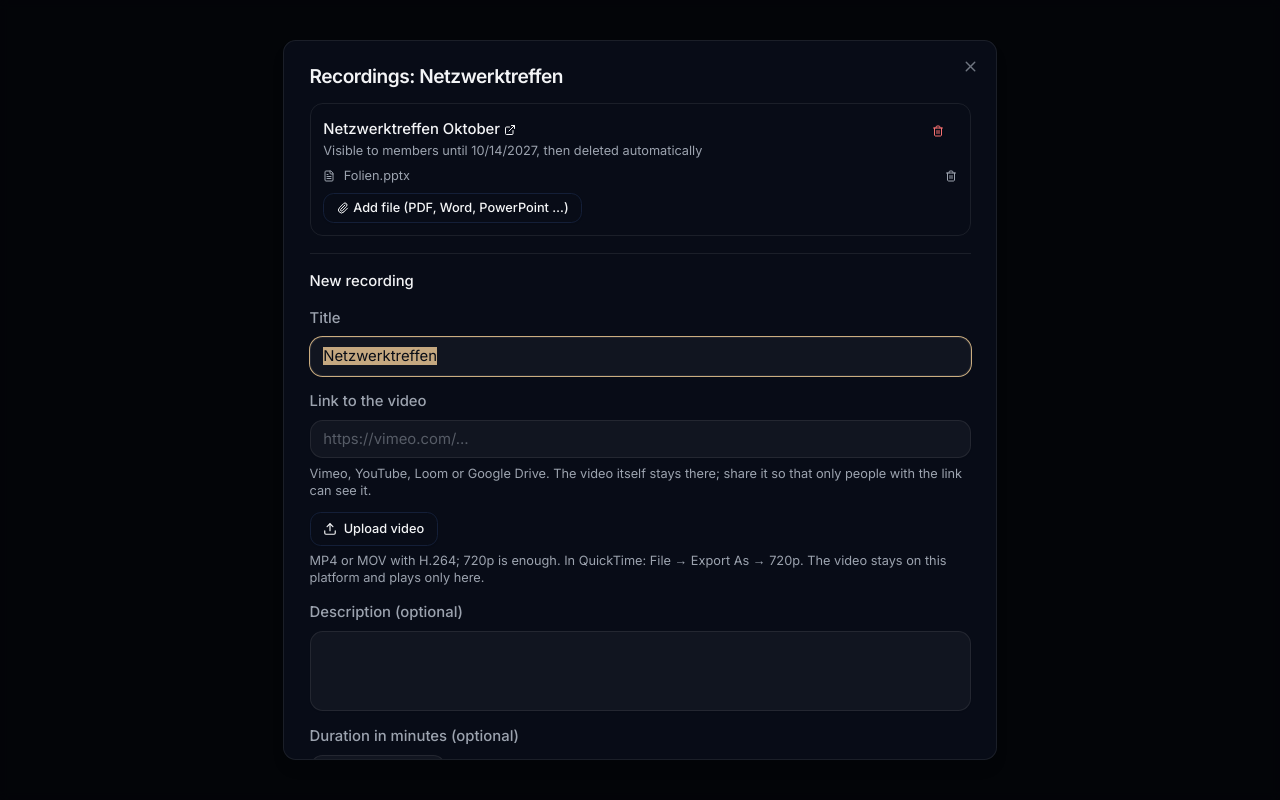
it: RecordingsAdminDialog › needs a web link before it can add
Expected: the link "Netzwerktreffen Oktober" is shown, [323,119,516,141]
Type "kein link" into the field labelled "Link to the video" at (640, 439), box [310,420,970,458]
(page scrolled)
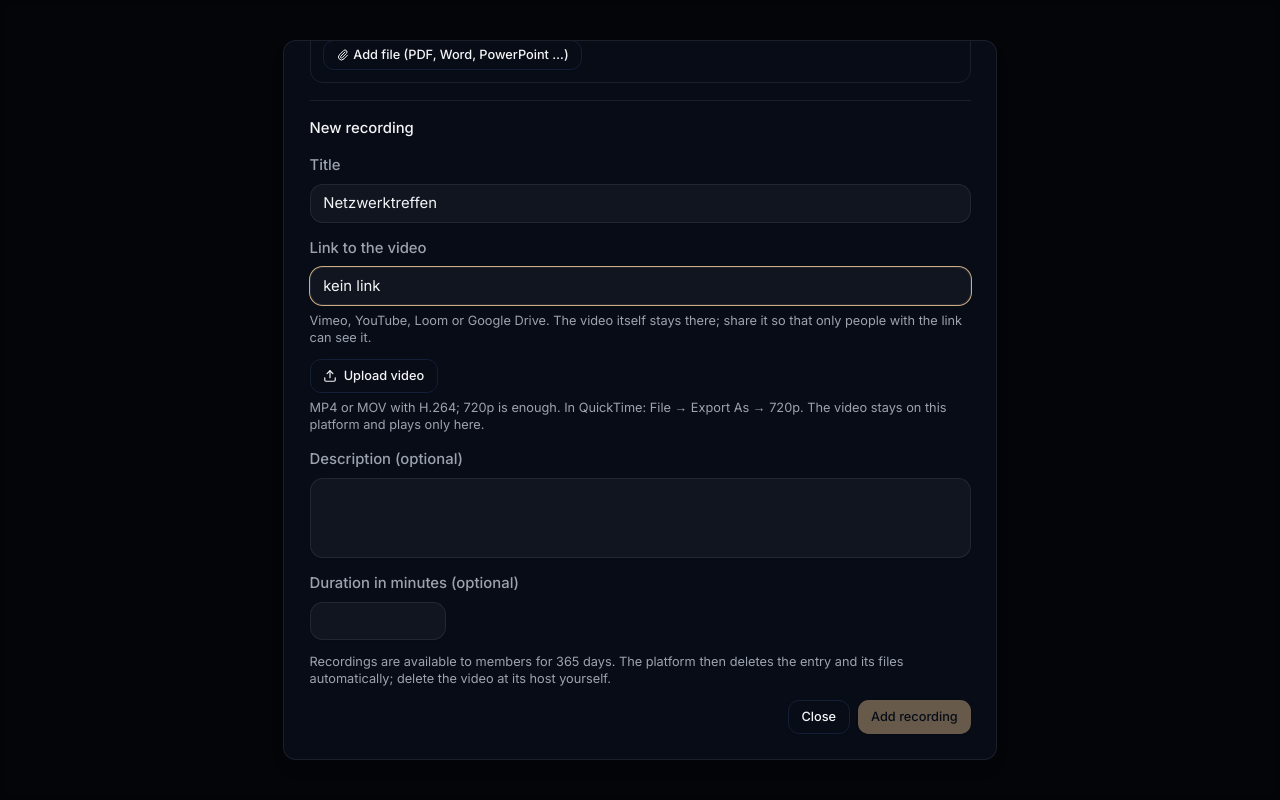
Expected: the button "Add recording" is disabled, [858,700,970,734]
